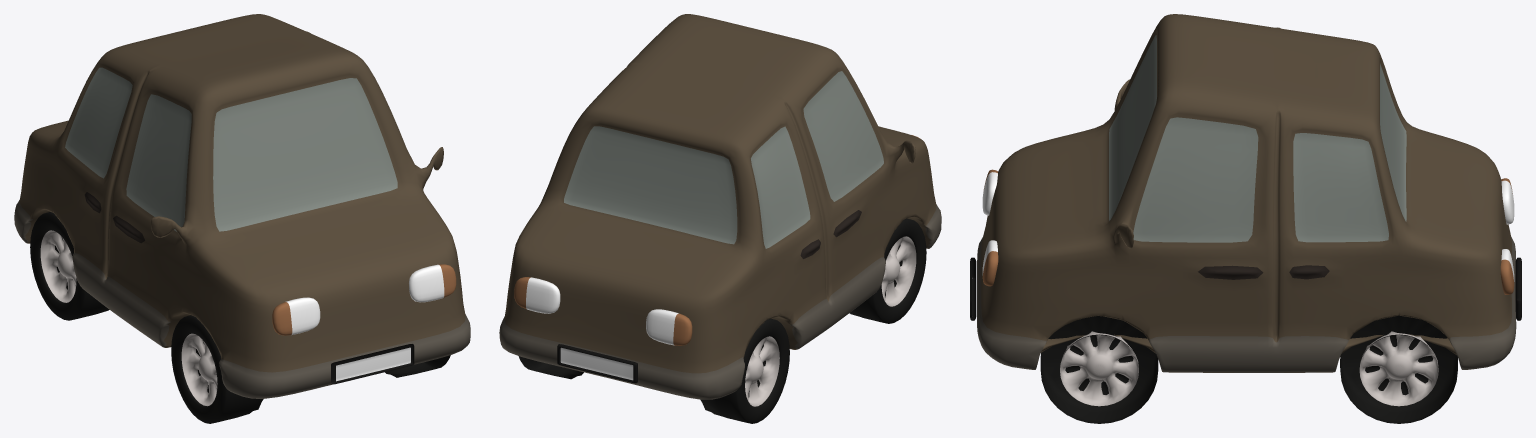
Rendered from car2 (2).fbx.
3 renders of one model, left to right at view 1: azimuth 30°, elevation 25°; view 2: azimuth 150°, elevation 25°; view 3: azimuth 270°, elevation 25°, orthographic. The views are drawn at different scales.
Parts seen in each view (by area): view 1: Cube, Cylinder.006, Cube.004, Cube.002; view 2: Cube, Cylinder.006, Cube.004, Cube.002; view 3: Cube, Cylinder.006, Cube.004, Cube.002.
Part boxes in pixels (<box>): Cube: <box>14,14,470,398</box>; Cylinder.006: <box>30,212,450,423</box>; Cube.004: <box>272,264,456,335</box>; Cube.002: <box>331,344,414,384</box>; Cube: <box>499,14,941,399</box>; Cylinder.006: <box>518,218,926,423</box>; Cube.004: <box>514,133,920,345</box>; Cube.002: <box>557,344,637,383</box>; Cube: <box>977,14,1516,372</box>; Cylinder.006: <box>1040,315,1457,423</box>; Cube.004: <box>982,169,1514,294</box>; Cube.002: <box>970,257,1521,320</box>.
Size of the model in its own units: 479 by 466 by 737.
